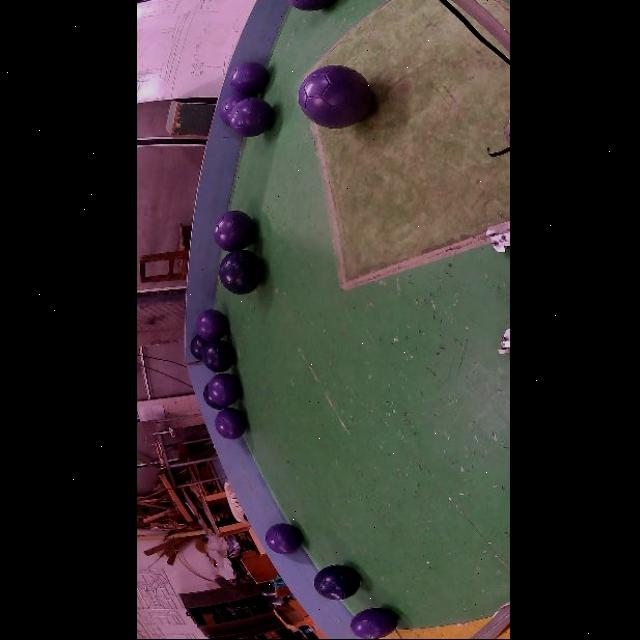B: (217, 250, 262, 295), (313, 566, 358, 601), (200, 340, 232, 374), (201, 384, 225, 410), (188, 336, 205, 361)
P: (296, 66, 371, 130), (227, 97, 273, 137), (212, 211, 254, 252), (349, 609, 396, 640), (227, 62, 268, 92), (264, 524, 300, 556), (206, 374, 239, 408), (218, 93, 249, 127), (213, 409, 244, 440), (195, 310, 226, 341), (286, 0, 333, 11)
